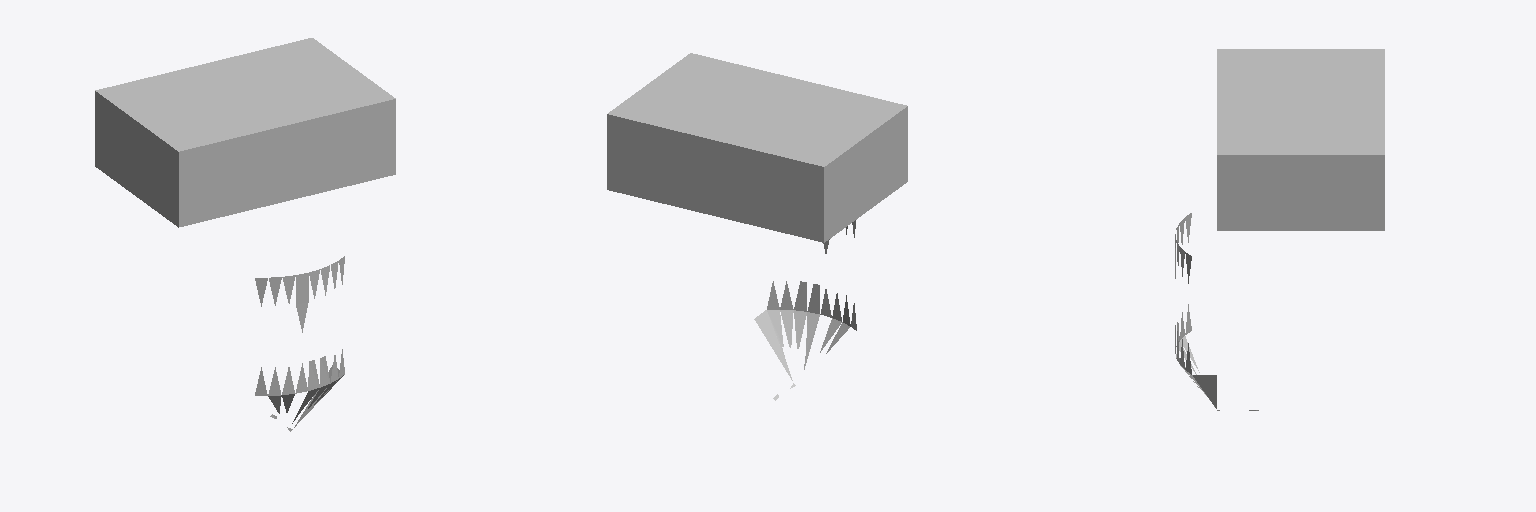
File: 180709 Grip2.obj
The picture shows the model from 3 angles: view 1: azimuth 30°, elevation 25°; view 2: azimuth 150°, elevation 25°; view 3: azimuth 270°, elevation 25°; orthographic projection.
Bounding box in the file's own units: 0.06 × 0.081 × 0.05.